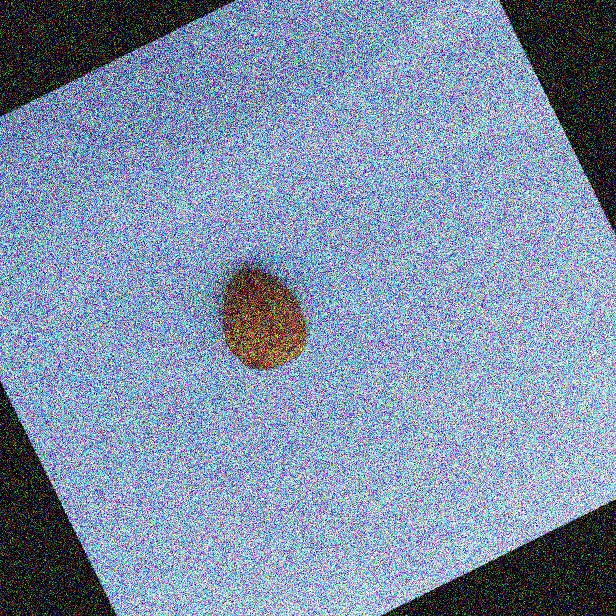grade1: (192, 243, 331, 392)
